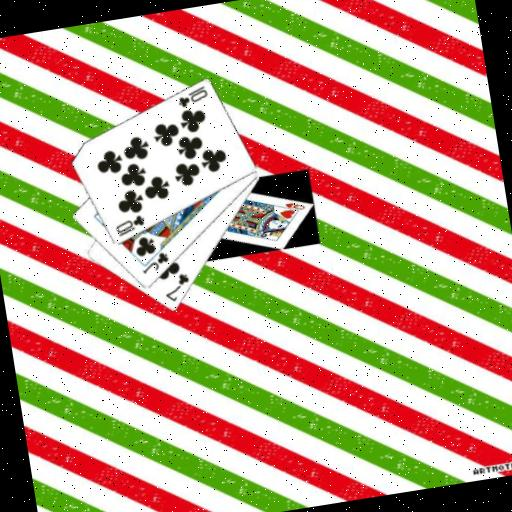10C: (172, 83, 210, 110), (110, 211, 147, 238)
7C: (159, 269, 194, 305)
JC: (136, 248, 172, 276)
